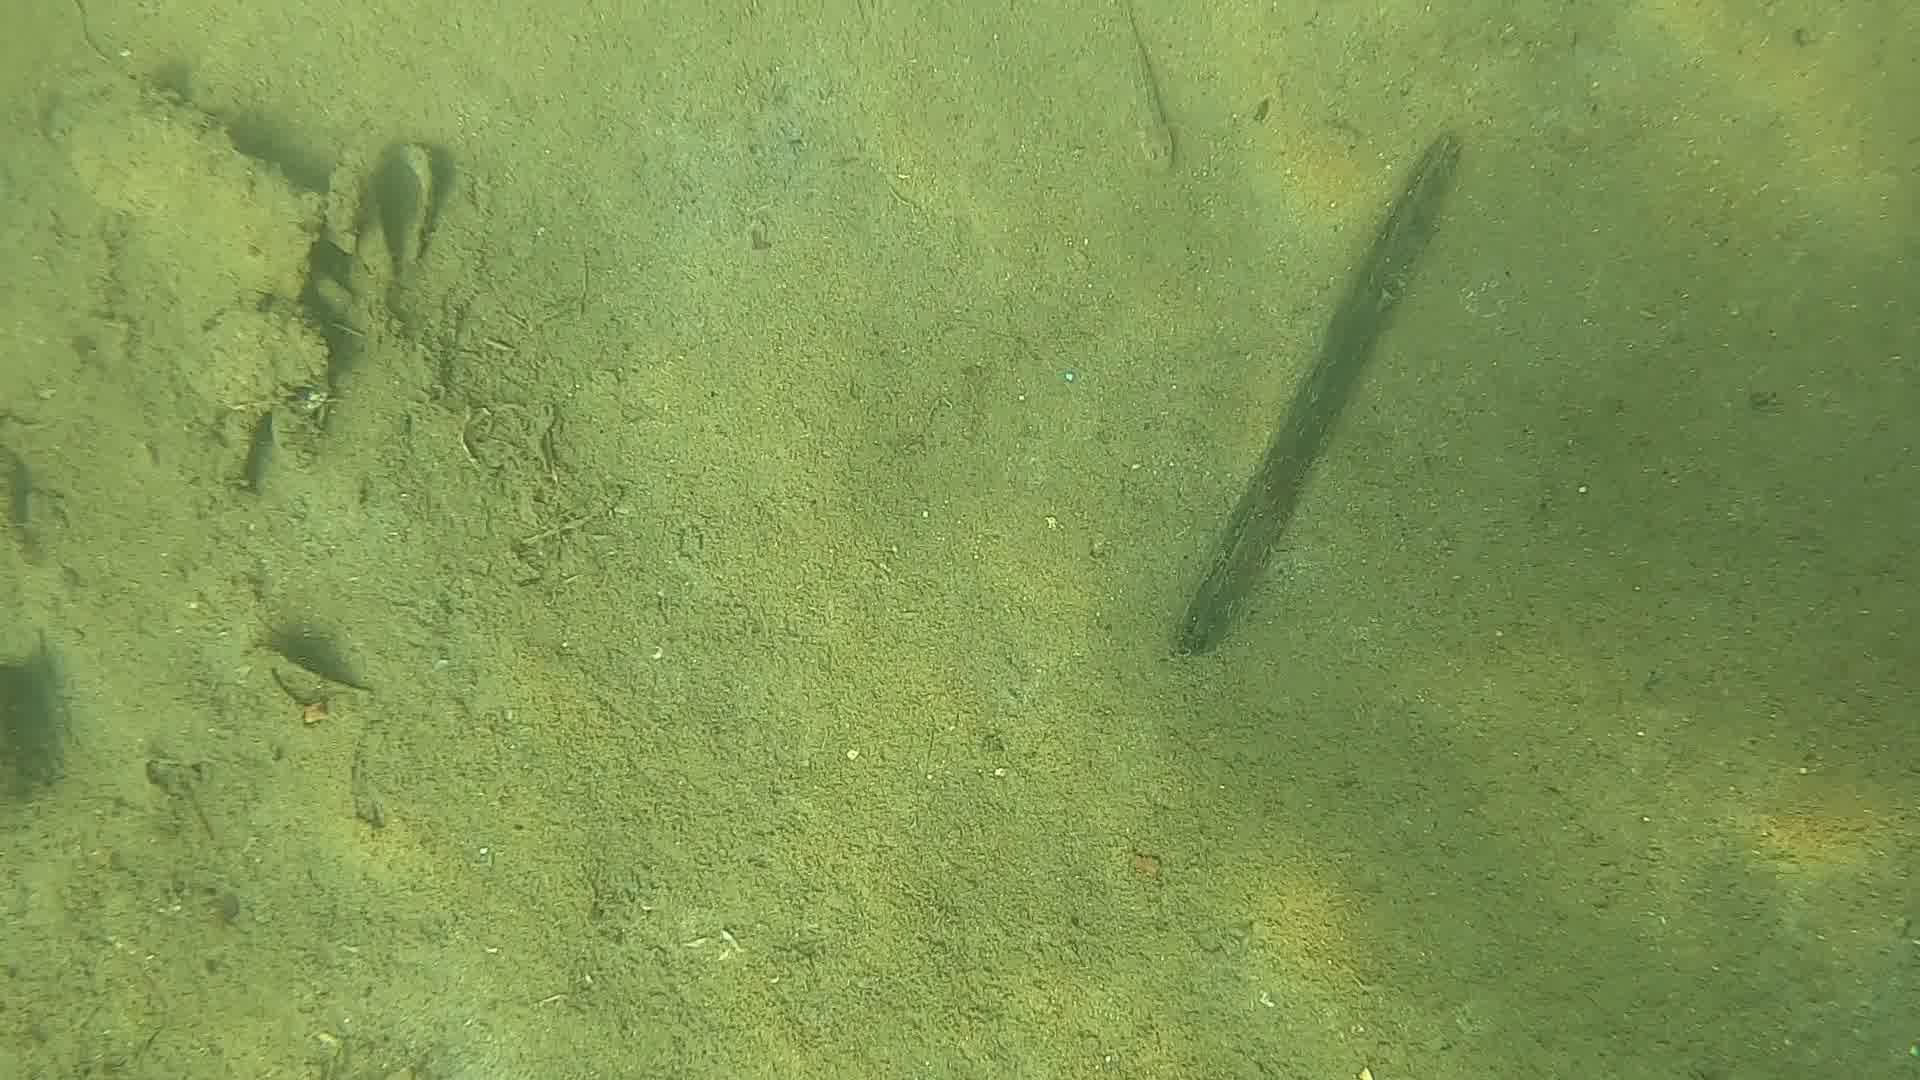wood: (1176, 131, 1462, 651)
